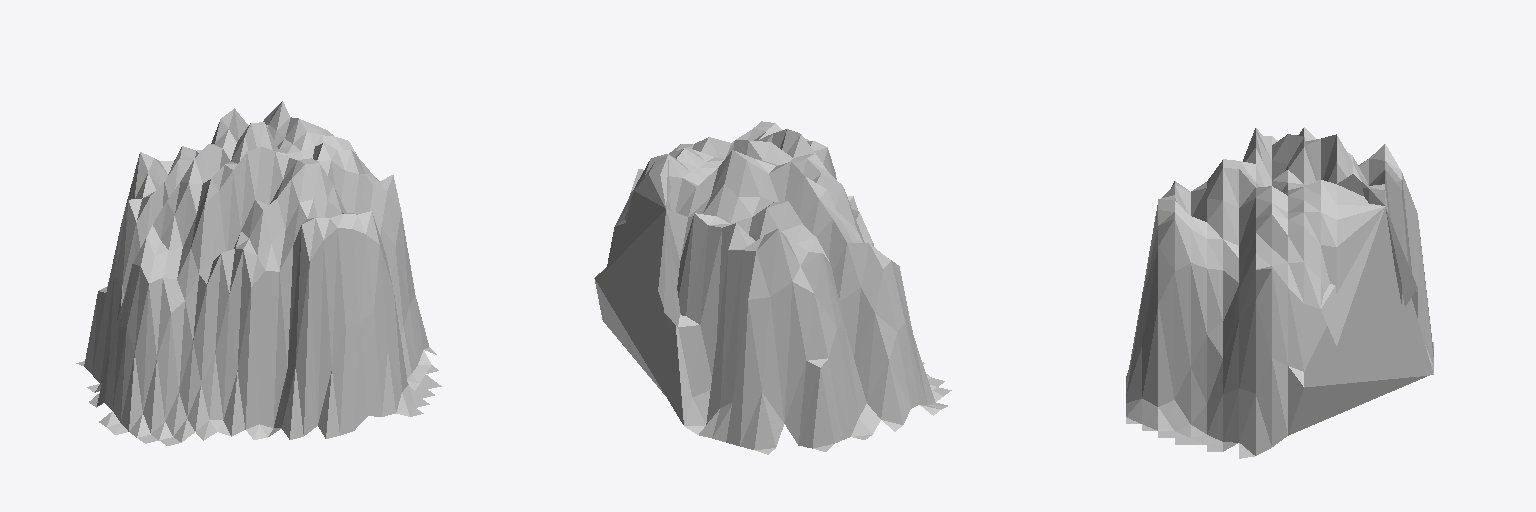
The model's file is tree_52.obj.
3 renders of one model, left to right at view 1: azimuth 30°, elevation 25°; view 2: azimuth 150°, elevation 25°; view 3: azimuth 270°, elevation 25°, orthographic.
Visible parts, largest first — view 1: tree_52_minus_dtm; view 2: tree_52_minus_dtm; view 3: tree_52_minus_dtm.
Part boxes in pixels (x1,y1,x2,y2): tree_52_minus_dtm: (76,101,441,445); tree_52_minus_dtm: (594,121,951,454); tree_52_minus_dtm: (1126,127,1433,458).
Size of the model in its own units: 23 by 17.06 by 19.